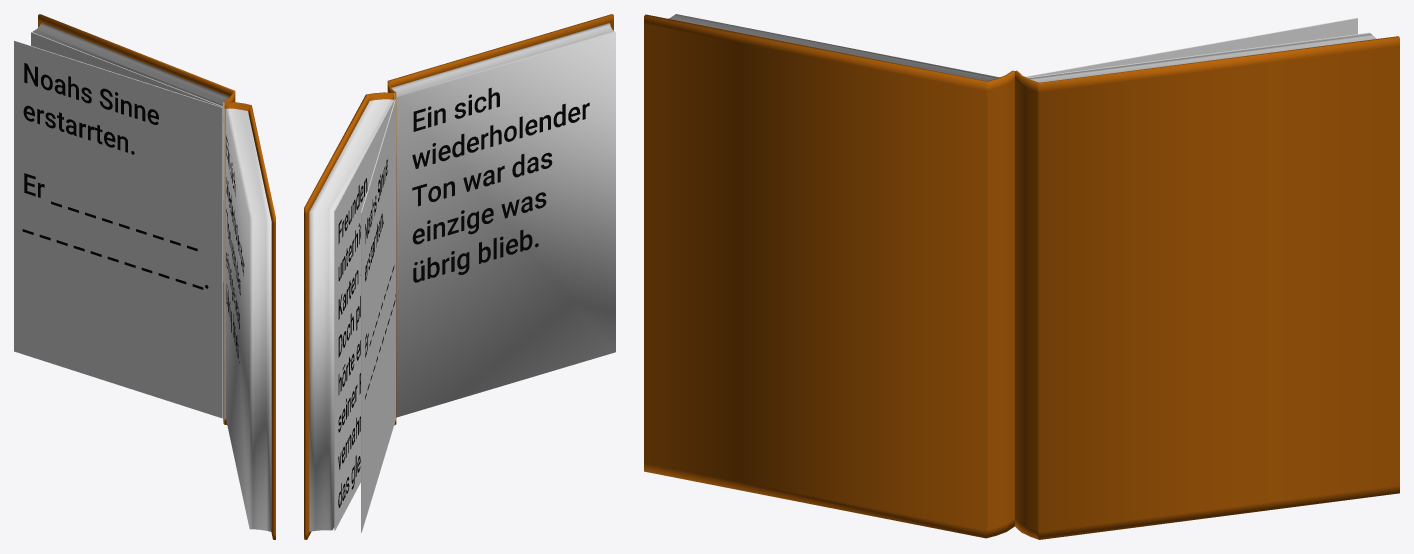
File: Book_ohne_Parent.fbx
3 views of the same model, side by side, from view 1: azimuth 30°, elevation 25°; view 2: azimuth 150°, elevation 25°; view 3: azimuth 270°, elevation 25° (orthographic). The views are drawn at different scales.
Visible parts, largest first — view 1: BookPage3.001, BookPage4.001, BookPage1.001, TextPage5, BookPage2.001, TextPage6; view 2: BookPage4.001, BookPage1.001, BookPage3.001, BookPage2.001, TextPage6, TextPage3, TextPage5; view 3: BookPage1.001, BookPage4.001, BookPage3.001.
Boxes of the visible parts, <box> form: BookPage3.001: <box>14,40,222,418</box>; BookPage4.001: <box>224,102,275,539</box>; BookPage1.001: <box>32,14,235,423</box>; TextPage5: <box>22,63,208,289</box>; BookPage2.001: <box>31,32,222,107</box>; TextPage6: <box>226,135,244,363</box>; BookPage4.001: <box>387,14,615,424</box>; BookPage1.001: <box>304,92,394,539</box>; BookPage3.001: <box>361,99,395,532</box>; BookPage2.001: <box>334,99,394,530</box>; TextPage6: <box>412,87,589,282</box>; TextPage3: <box>338,178,367,507</box>; TextPage5: <box>365,159,395,399</box>; BookPage1.001: <box>1015,34,1399,539</box>; BookPage4.001: <box>644,14,1014,538</box>; BookPage3.001: <box>1025,18,1357,77</box>.
Size of the model in its own units: 74.12 by 200 by 301.
